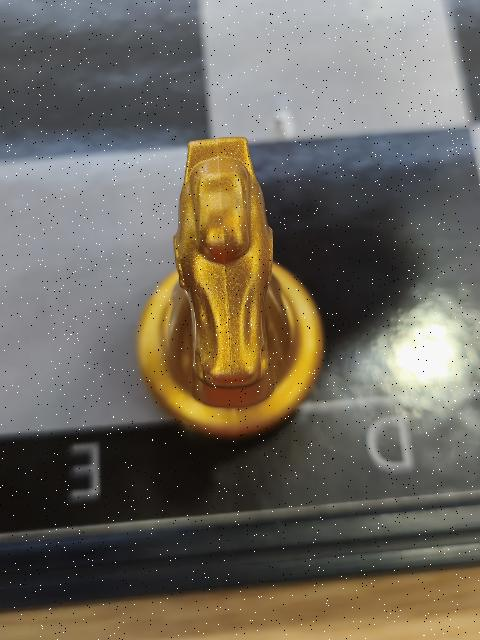black_knight: (137, 135, 325, 437)
